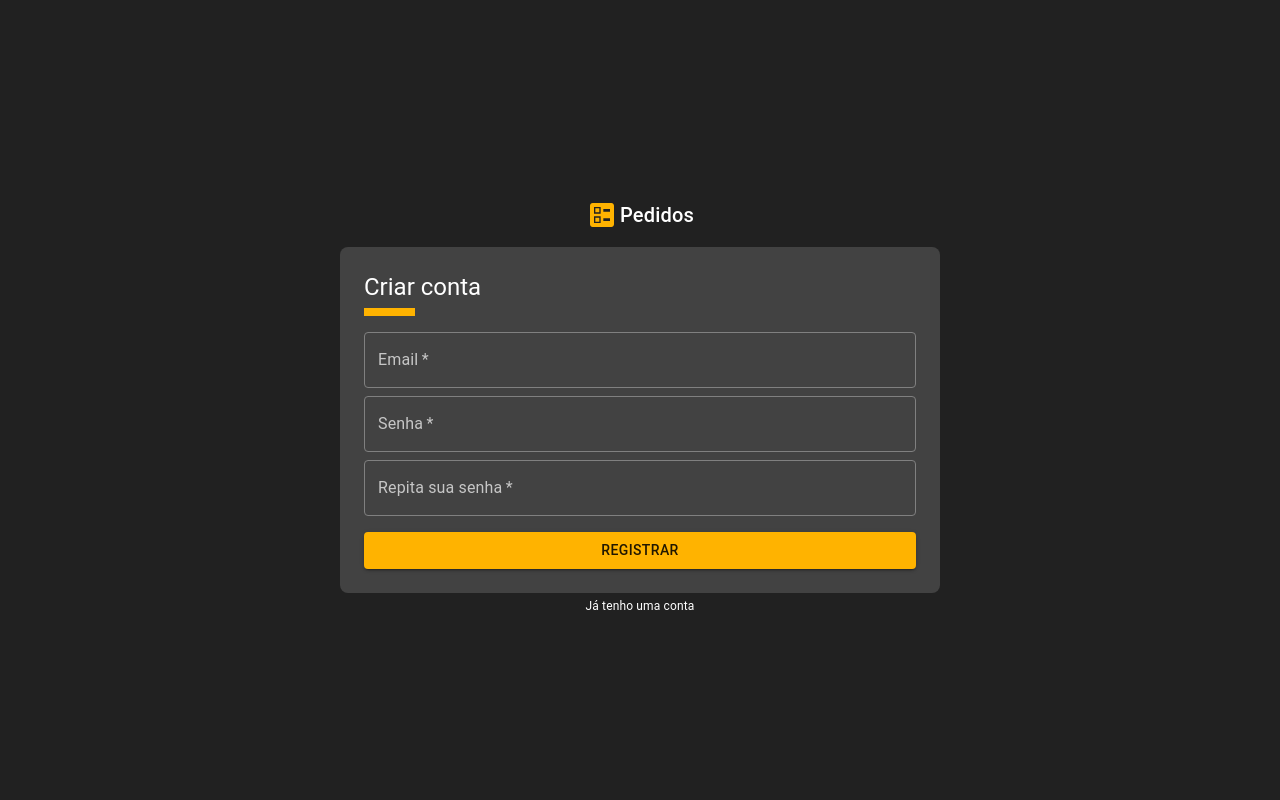
it: <Register /> › Invalid email
The width and height of the screenshot is (1280, 800).
Type "teste@teste" into the field labelled "Email *". click: point(640, 360)
box: [364,332,916,388]
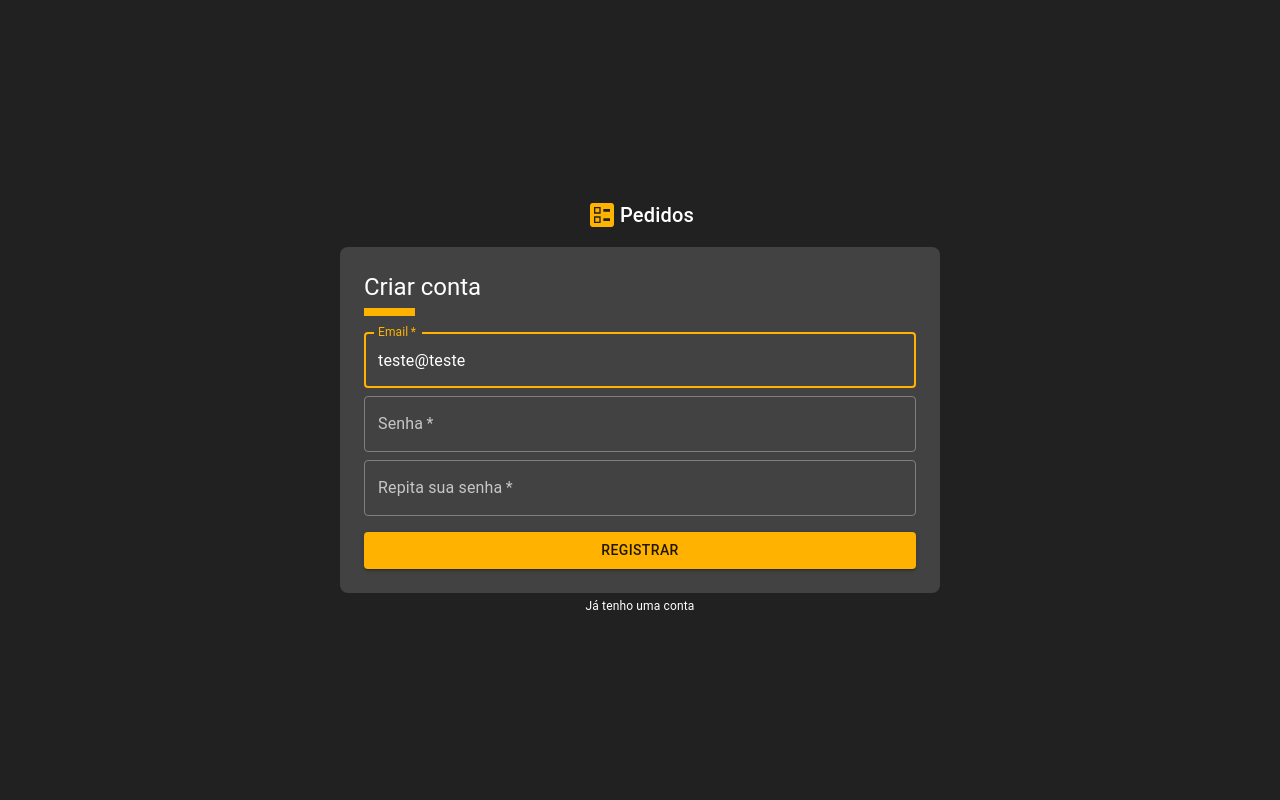
Type "123456" into the password field labelled "Senha *". click: point(640, 424)
box: [364,396,916,452]
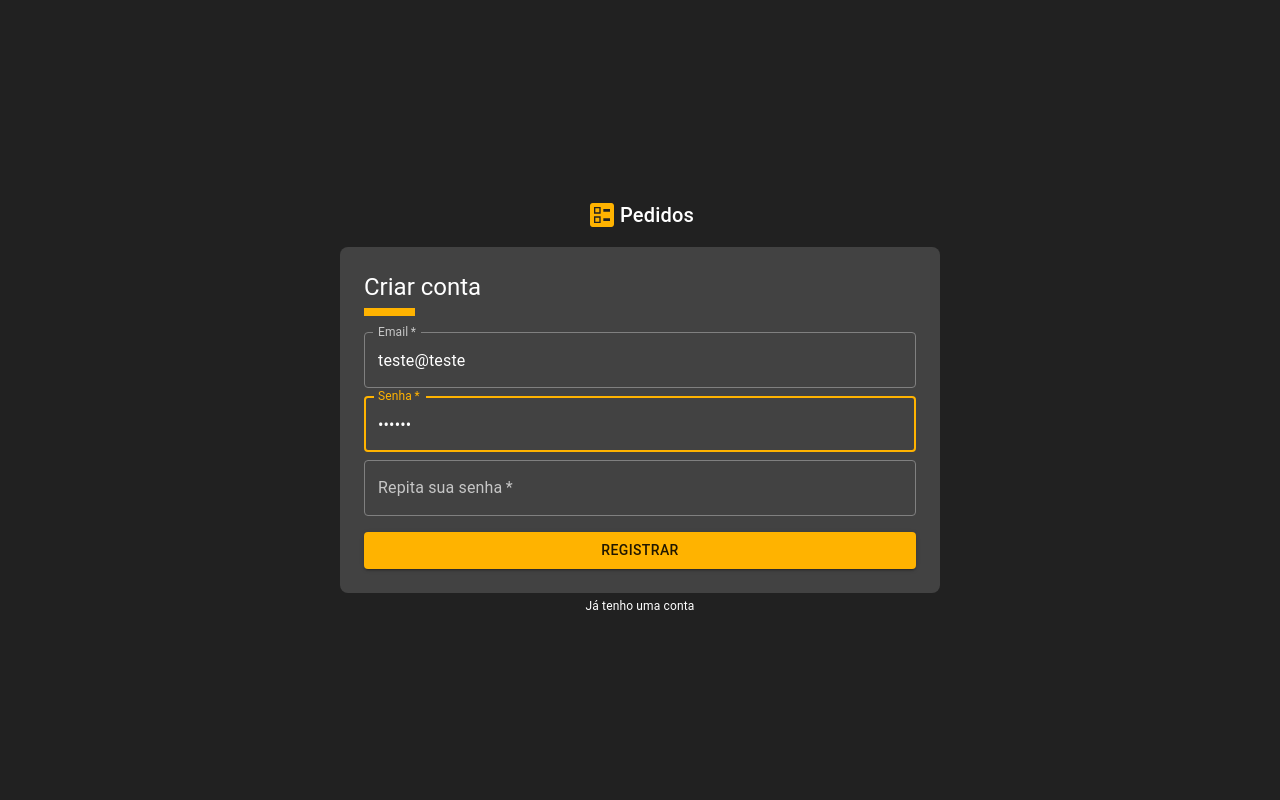
Type "123456" into the password field labelled "Repita sua senha *". click: point(640, 488)
box: [364,460,916,516]
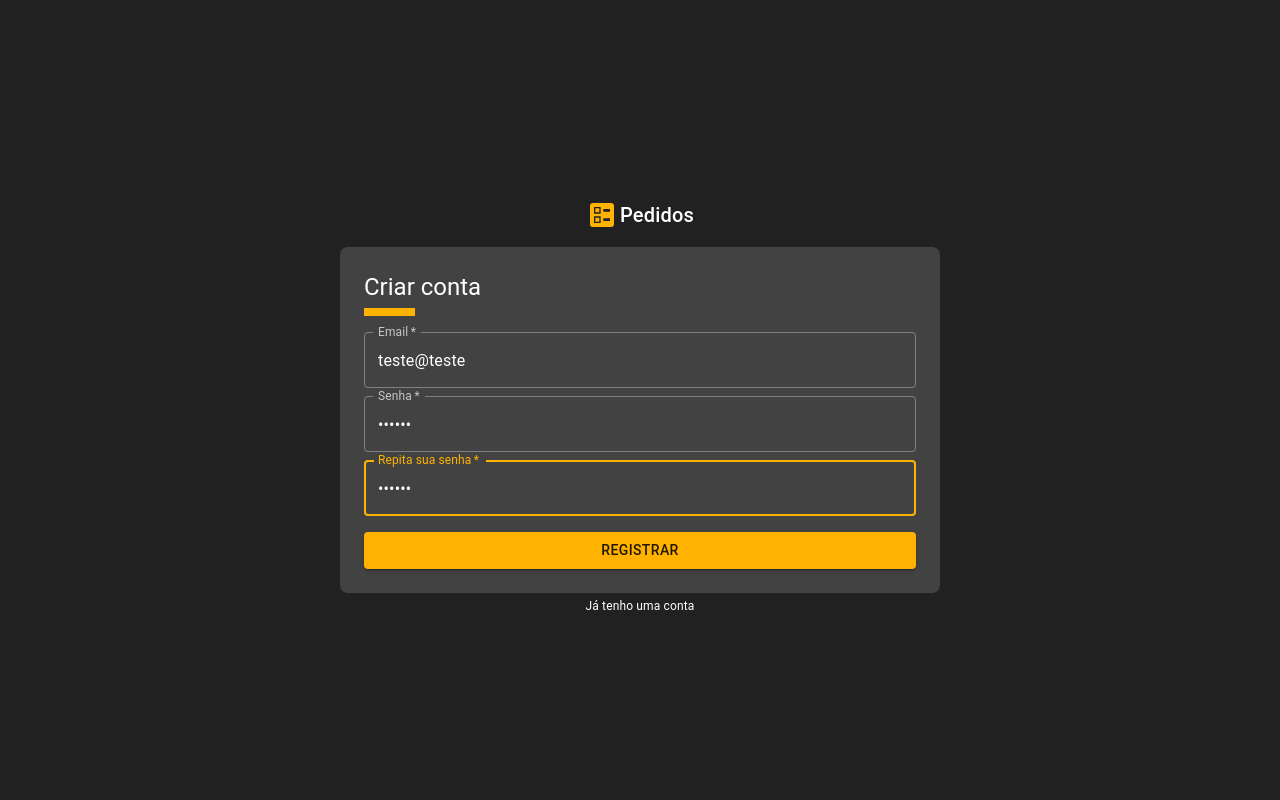
Click the button. click: point(640, 551)
box: [364,532,916,569]
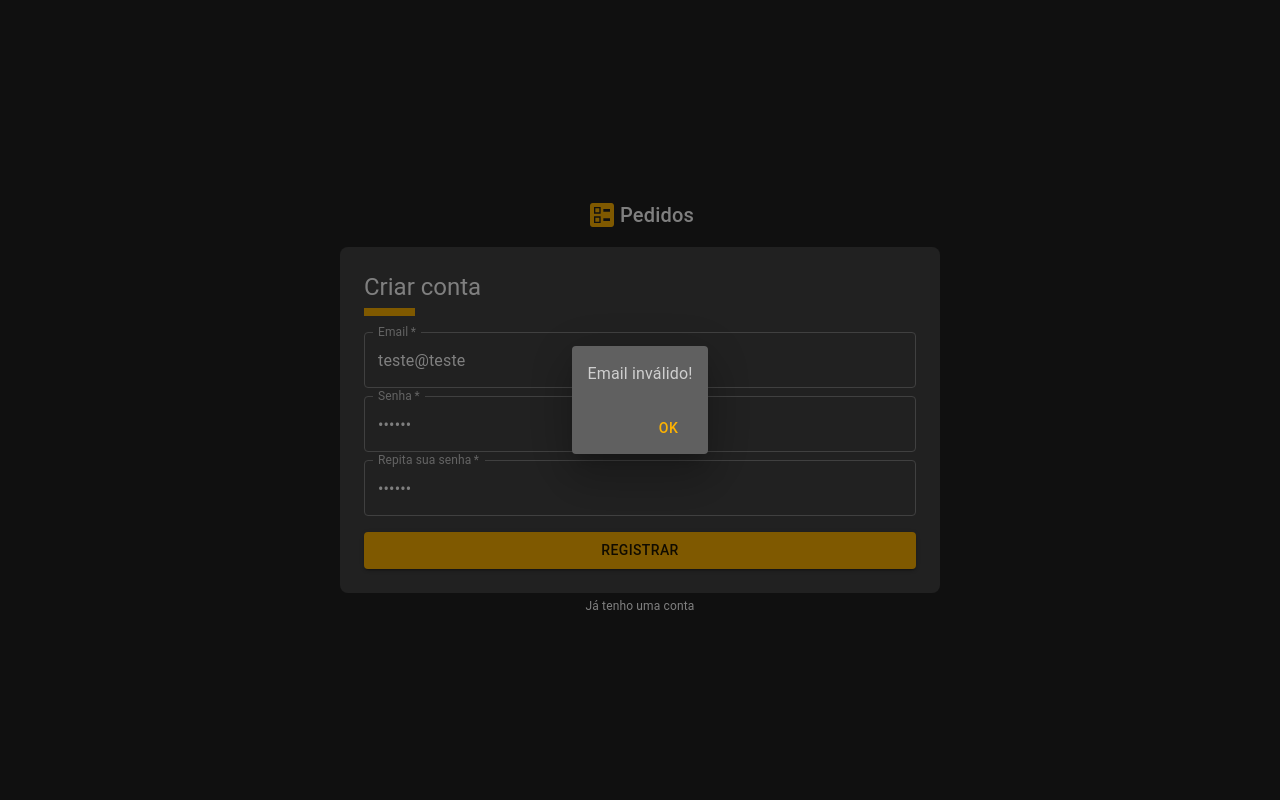
Result: the text "Email inválido!" is shown at [588,364,692,383]
